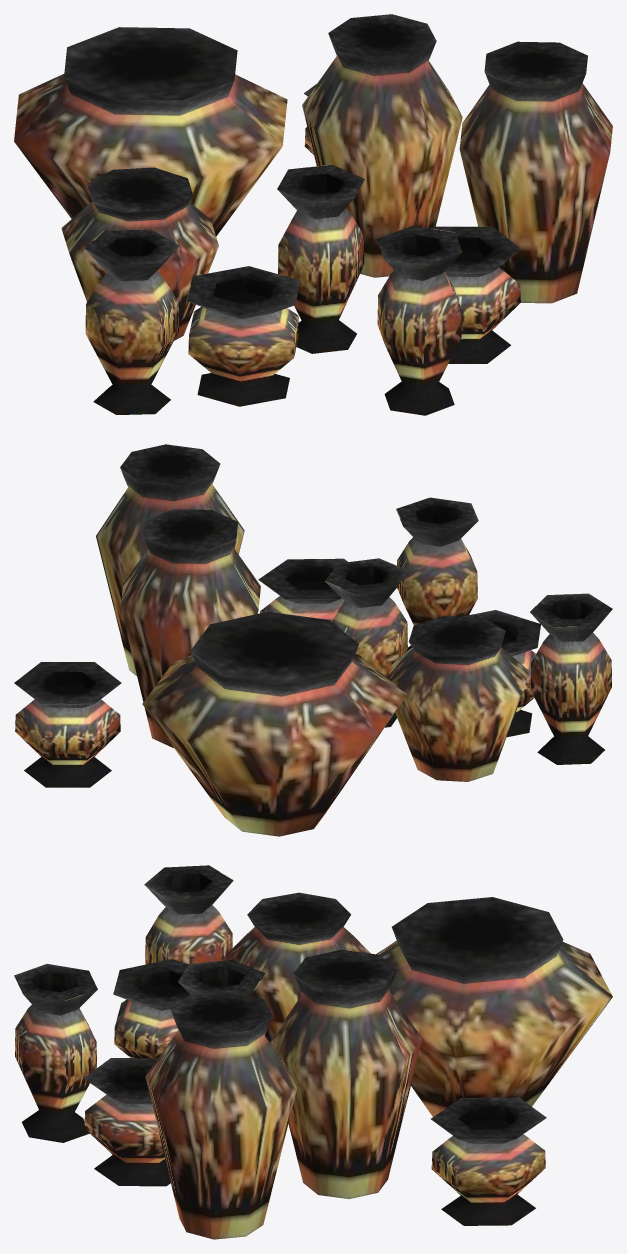
File: amphorae.glb
3 views of the same model, one above another, from view 1: azimuth 30°, elevation 25°; view 2: azimuth 150°, elevation 25°; view 3: azimuth 270°, elevation 25° (orthographic). The views are drawn at different scales.
Visible parts, largest first — view 1: amphorae; view 2: amphorae; view 3: amphorae.
Boxes of the visible parts, box(x1,y1,x2,y2) form: amphorae: box(14, 14, 612, 415); amphorae: box(14, 444, 612, 836); amphorae: box(14, 865, 612, 1239).
Size of the model in its own units: 2.48 by 1 by 2.58.
1 material, 1 textured.
